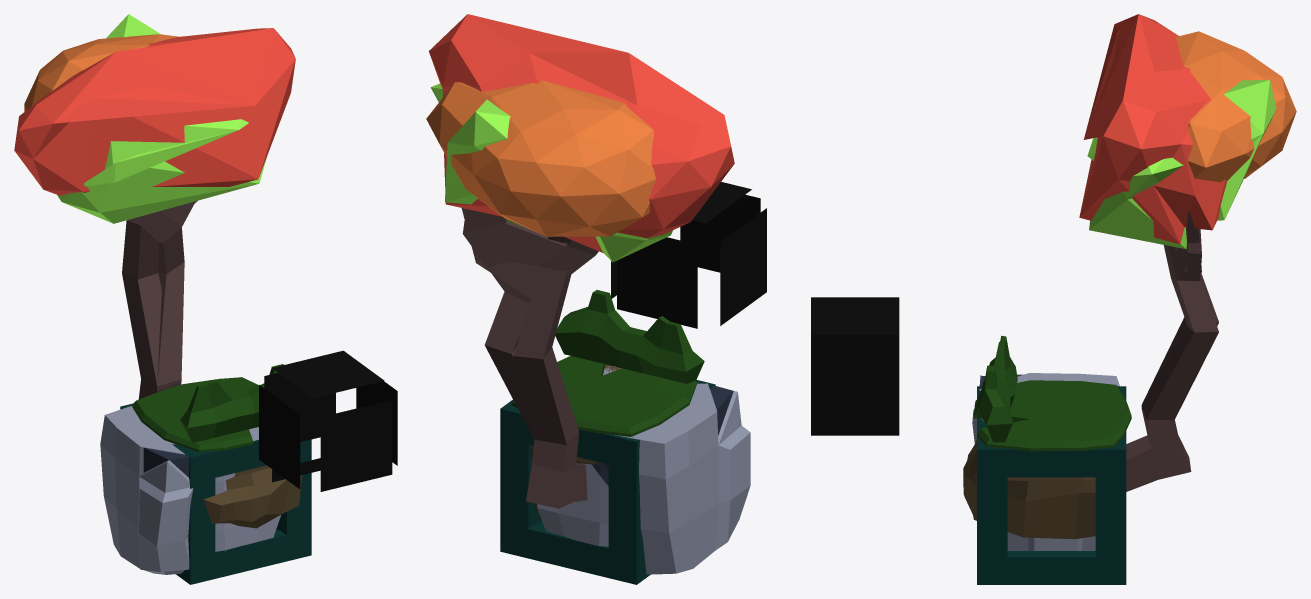
Rendered from GameAsset.fbx.
3 renders of one model, left to right at view 1: azimuth 30°, elevation 25°; view 2: azimuth 150°, elevation 25°; view 3: azimuth 270°, elevation 25°, orthographic. The views are drawn at different scales.
Parts seen in each view (by area): view 1: TreeTop2, Cube.009, Tile stone, TreeTop3, Crate, TreeTrunk2, TreeTrunk1, TileDirt, TileTopGrass, TileBush, Cube.004; view 2: Cube.004, TreeTop2, Tile stone, Cube.009, Crate, TreeTrunk2, TreeTrunk1, TileBush, TileTopGrass, TreeTop3; view 3: TreeTop2, Crate, Cube.009, Cube.004, TreeTrunk1, TileTopGrass, TileDirt, TreeTop3, TreeTrunk2, TileBush, Tile stone.
Boxes of the visible parts, x1=… form: TreeTop2: x1=14, y1=28, x2=295, y2=195; Cube.009: x1=259, y1=350, x2=397, y2=491; Tile stone: x1=100, y1=406, x2=280, y2=574; TreeTop3: x1=57, y1=14, x2=266, y2=223; Crate: x1=120, y1=377, x2=311, y2=584; TreeTrunk2: x1=122, y1=200, x2=197, y2=399; TreeTrunk1: x1=127, y1=201, x2=195, y2=398; TileDirt: x1=203, y1=465, x2=302, y2=528; TileTopGrass: x1=132, y1=377, x2=258, y2=451; TileBush: x1=180, y1=364, x2=283, y2=442; Cube.004: x1=24, y1=34, x2=177, y2=111; Cube.004: x1=426, y1=80, x2=655, y2=236; TreeTop2: x1=429, y1=14, x2=734, y2=252; Tile stone: x1=537, y1=366, x2=750, y2=574; Cube.009: x1=611, y1=182, x2=766, y2=328; Crate: x1=500, y1=380, x2=715, y2=584; TreeTrunk2: x1=461, y1=208, x2=587, y2=508; TreeTrunk1: x1=462, y1=209, x2=598, y2=507; TileBush: x1=555, y1=290, x2=704, y2=383; TileTopGrass: x1=511, y1=356, x2=696, y2=436; TreeTop3: x1=430, y1=83, x2=672, y2=262; TreeTop2: x1=1079, y1=14, x2=1227, y2=244; Crate: x1=977, y1=386, x2=1126, y2=584; Cube.009: x1=811, y1=297, x2=899, y2=435; Cube.004: x1=1175, y1=31, x2=1296, y2=182; TreeTrunk1: x1=1126, y1=229, x2=1218, y2=489; TileTopGrass: x1=973, y1=380, x2=1131, y2=451; TileDirt: x1=963, y1=418, x2=1095, y2=539; TreeTop3: x1=1087, y1=80, x2=1276, y2=249; TreeTrunk2: x1=1126, y1=212, x2=1218, y2=491; TileBush: x1=978, y1=335, x2=1017, y2=442; Tile stone: x1=972, y1=373, x2=1119, y2=550.
Bounding box in the file's own units: 4.46 × 7.53 × 6.71.
